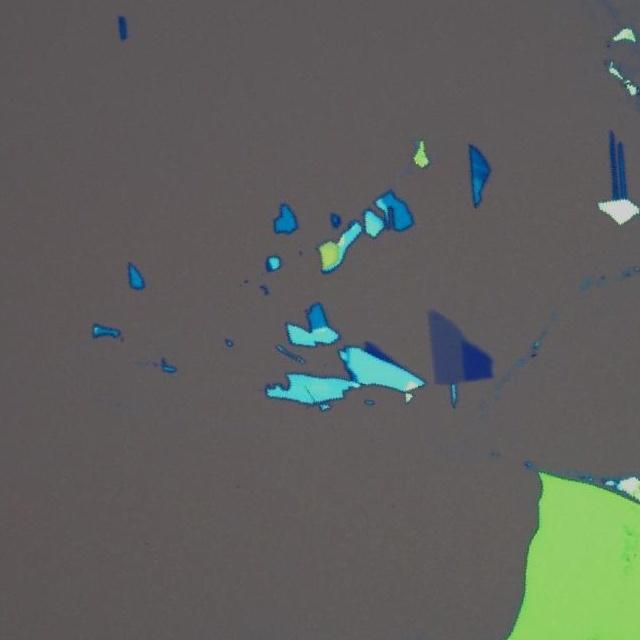monolayer-eWW4: (428, 306, 462, 386)
